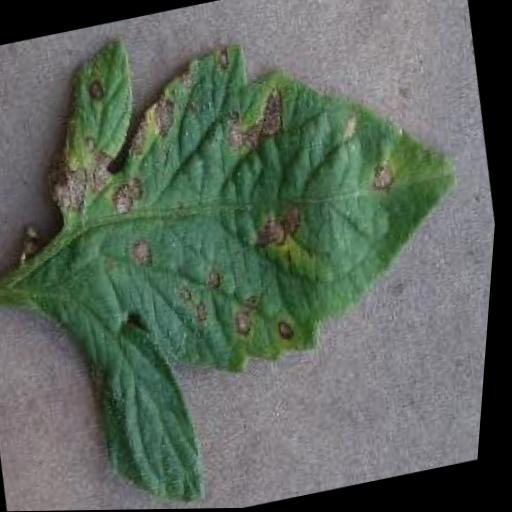Early Blight: (9, 0, 494, 404)
